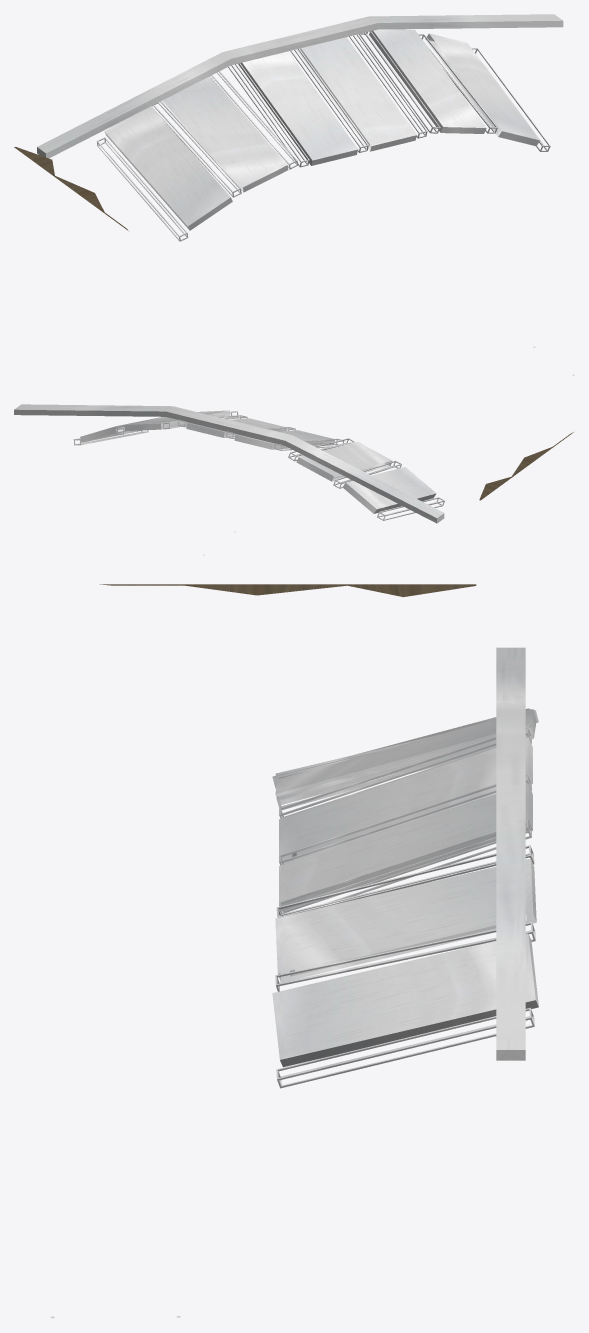
Rendered from Stage_Lights.fbx.
3 views of the same model, one above another, from view 1: azimuth 30°, elevation 25°; view 2: azimuth 150°, elevation 25°; view 3: azimuth 270°, elevation 25° (orthographic). The views are drawn at different scales.
Parts seen in each view (by area): view 1: Stage_Lights; view 2: Stage_Lights; view 3: Stage_Lights.
Part boxes in pixels (bbox=[...]): Stage_Lights: bbox=[14, 14, 574, 375]; Stage_Lights: bbox=[14, 404, 573, 555]; Stage_Lights: bbox=[50, 584, 538, 1318].
Size of the model in its own units: 38.94 by 17.93 by 18.15.
